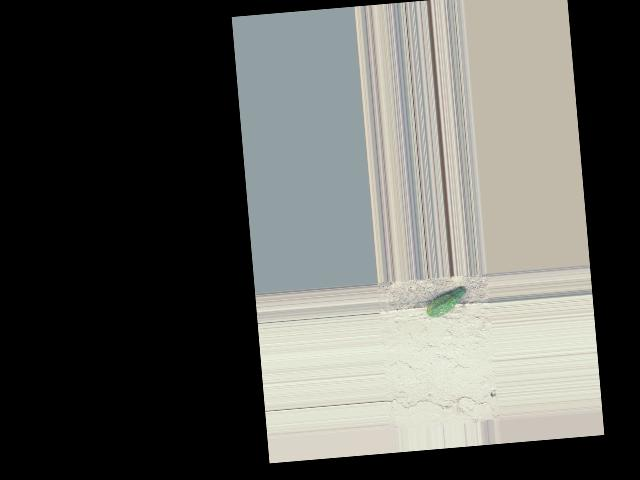cucumber: (424, 287, 466, 318)
